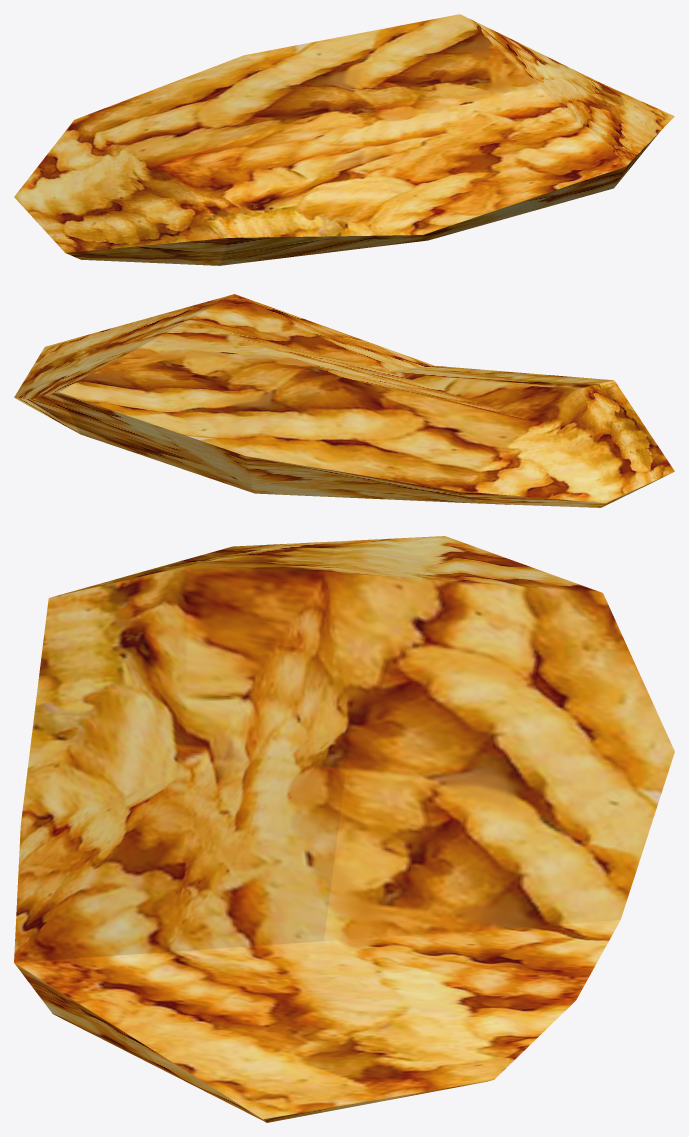
Rendered from f_Zigzagtfries_servingBasket.fbx.
The picture shows the model from 3 angles, top to bottom: view 1: azimuth 30°, elevation 25°; view 2: azimuth 150°, elevation 25°; view 3: azimuth 270°, elevation 25°; orthographic projection. The views are drawn at different scales.
Visible parts, largest first — view 1: f_fries_inServingbasket; view 2: f_fries_inServingbasket; view 3: f_fries_inServingbasket.
Boxes of the visible parts, x1,y1,x2,y2 form: f_fries_inServingbasket: (14, 14, 674, 265); f_fries_inServingbasket: (14, 294, 674, 507); f_fries_inServingbasket: (14, 536, 674, 1122).
Bounding box in the file's own units: 25.35 × 48.67 × 5.31.
